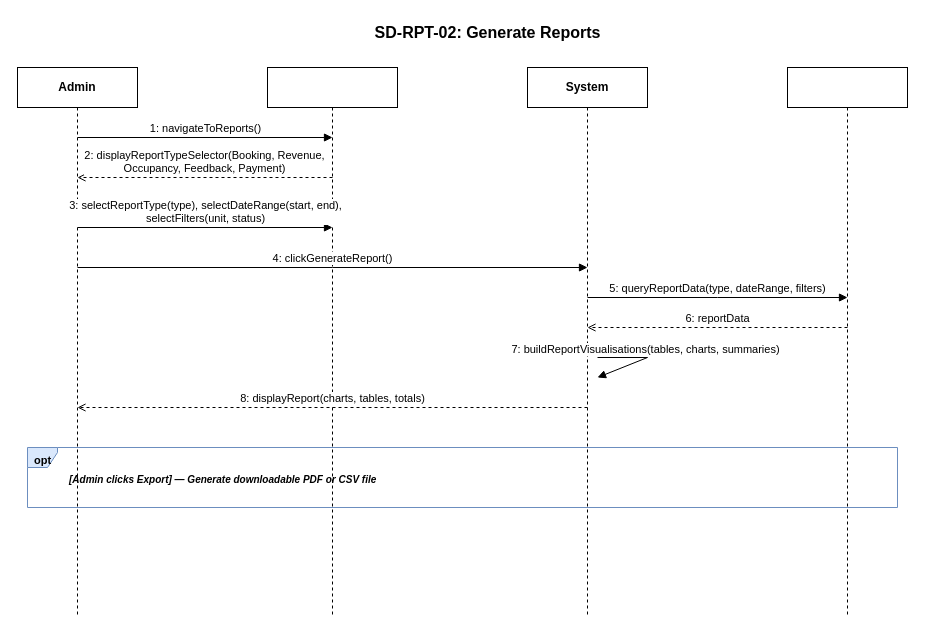
Some shapes in this 925 by 635 pixel diagram are drawn without their labels. The box of each missing label's shape, as (x1, y1, x2, y2) in pixels:
Database: (786, 66, 908, 618)
Reports Page: (266, 66, 398, 618)
